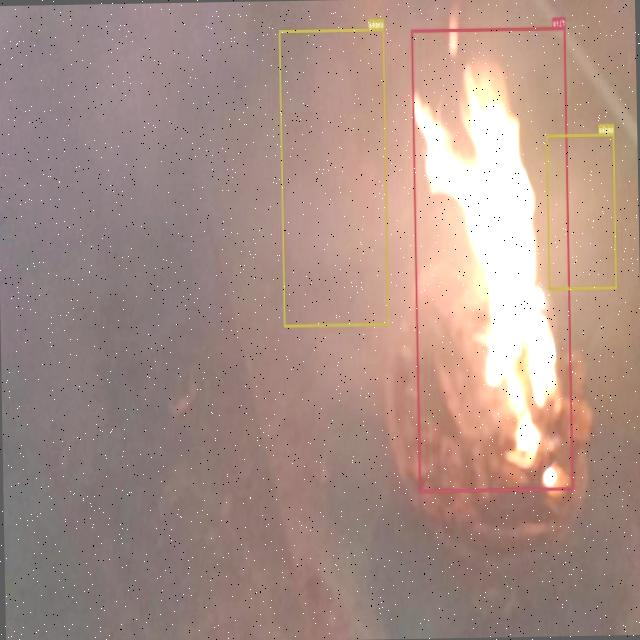fire: (411, 26, 573, 492)
smoke: (279, 28, 389, 326), (546, 133, 616, 290)
